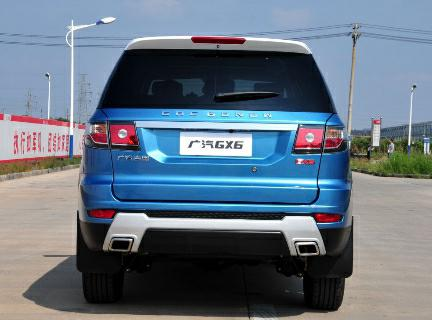广汽吉奥-GX6w: (73, 30, 362, 315)
